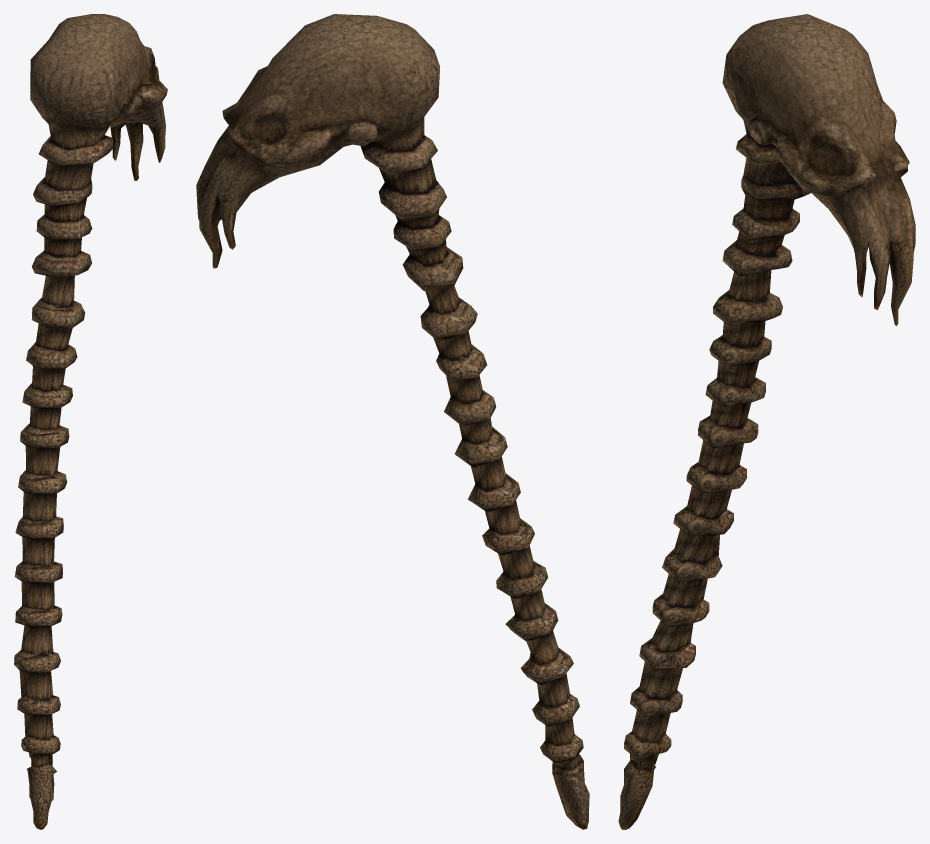
The model's file is tripo_convert_9a5d8bb3-94d3-4438-9d96-78e4317454e3.fbx.
3 renders of one model, left to right at view 1: azimuth 30°, elevation 25°; view 2: azimuth 150°, elevation 25°; view 3: azimuth 270°, elevation 25°, orthographic. The views are drawn at different scales.
Visible parts, largest first — view 1: tripo_node_9a5d8bb3; view 2: tripo_node_9a5d8bb3; view 3: tripo_node_9a5d8bb3.
Part boxes in pixels (x1,y1,x2,y2): tripo_node_9a5d8bb3: [14, 14, 167, 829]; tripo_node_9a5d8bb3: [196, 14, 589, 829]; tripo_node_9a5d8bb3: [618, 14, 915, 829].
Size of the model in its own units: 0.3379 by 0.998 by 0.3066.
